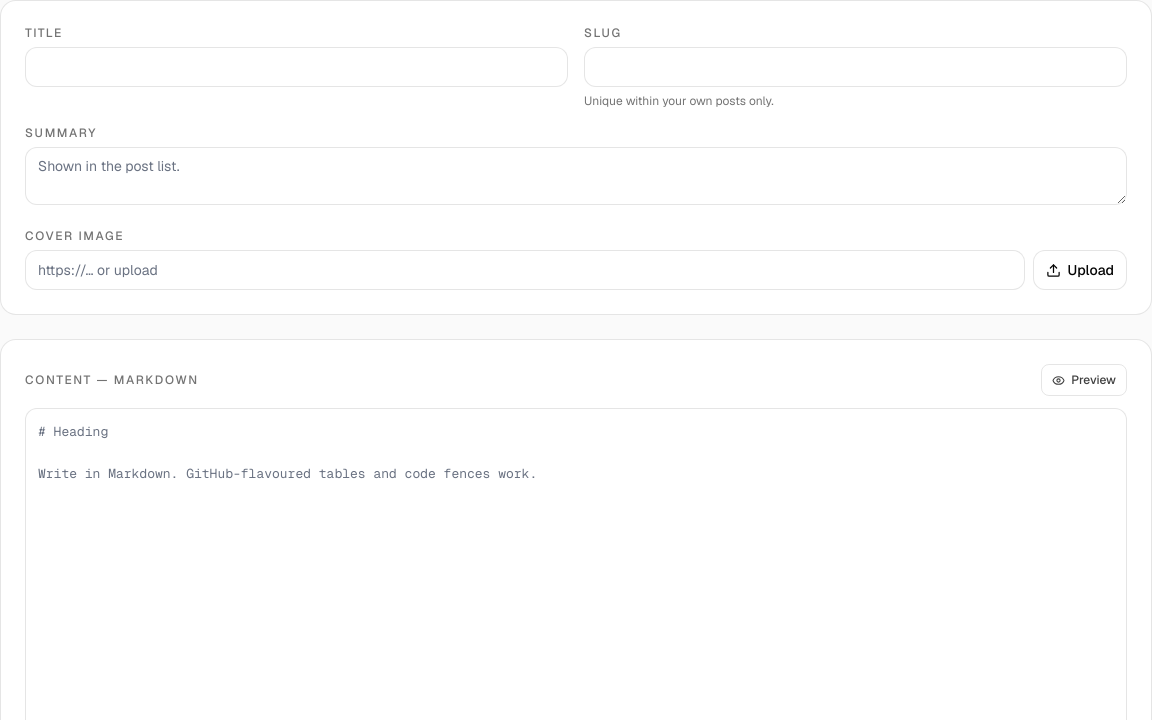
BlogForm › shows the action's error and keeps every entered value
Type "My Post" into the field labelled "Title" at x=296, y=67, box [25,47,568,87]
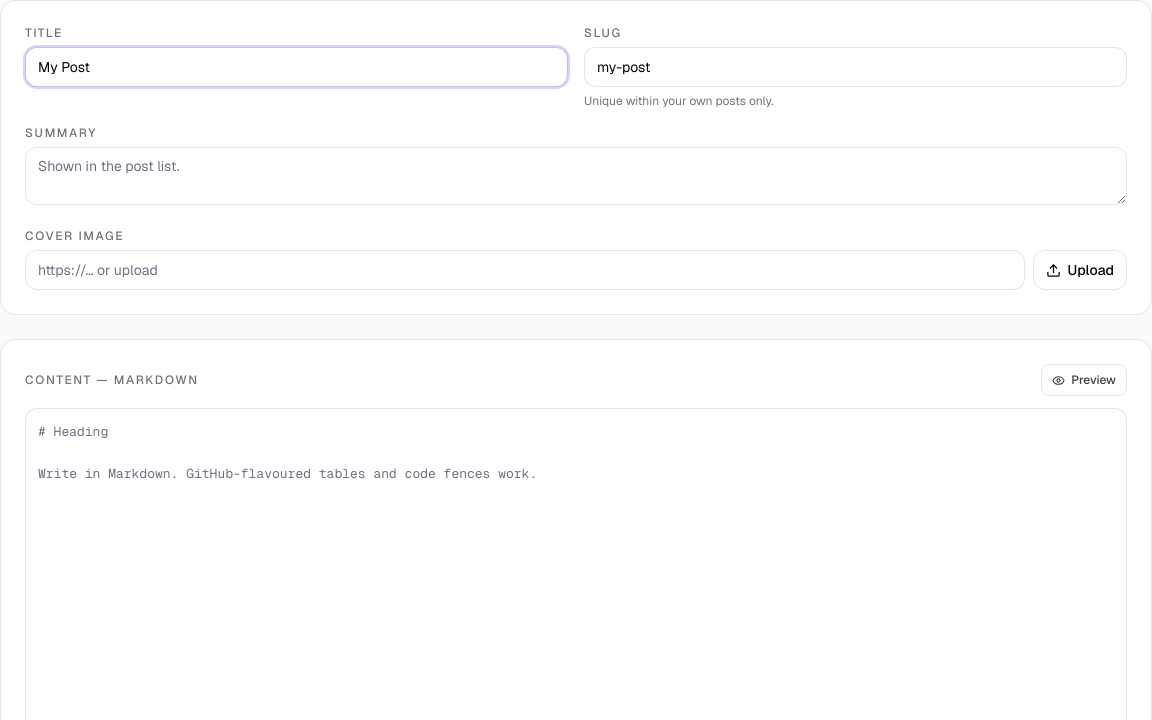
Type "A summary" into the text box labelled "Summary" at x=576, y=176, box [25,147,1127,205]
(page scrolled)
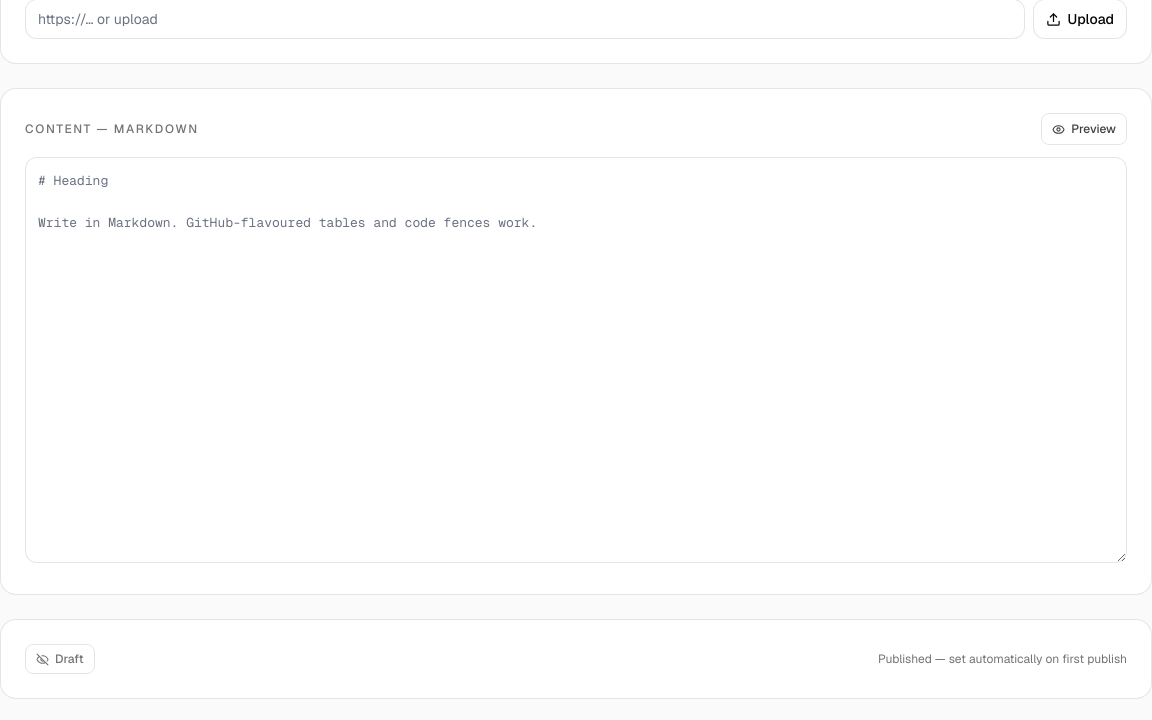
Type "# Body" into the text box labelled "Content — Markdown" at x=576, y=360, box [25,157,1127,563]
(page scrolled)
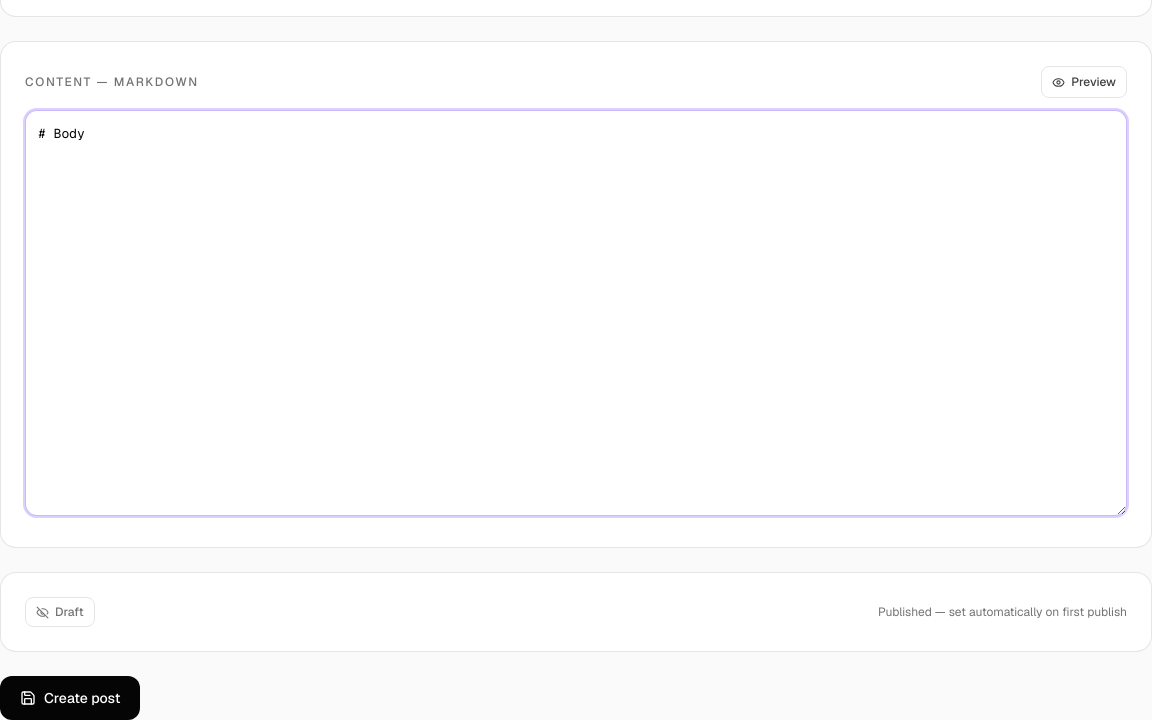
Click the button "Create post" at x=70, y=698, box [0,676,140,719]
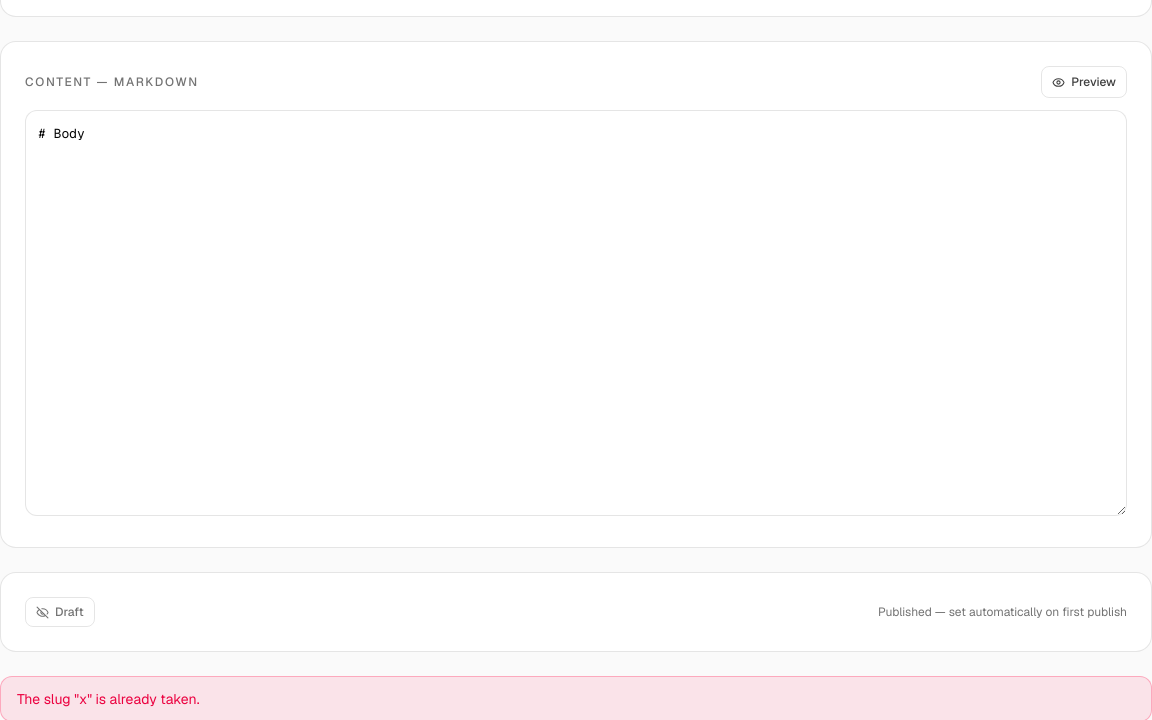
Result: the message shows "already taken" at [17,690,200,708]
